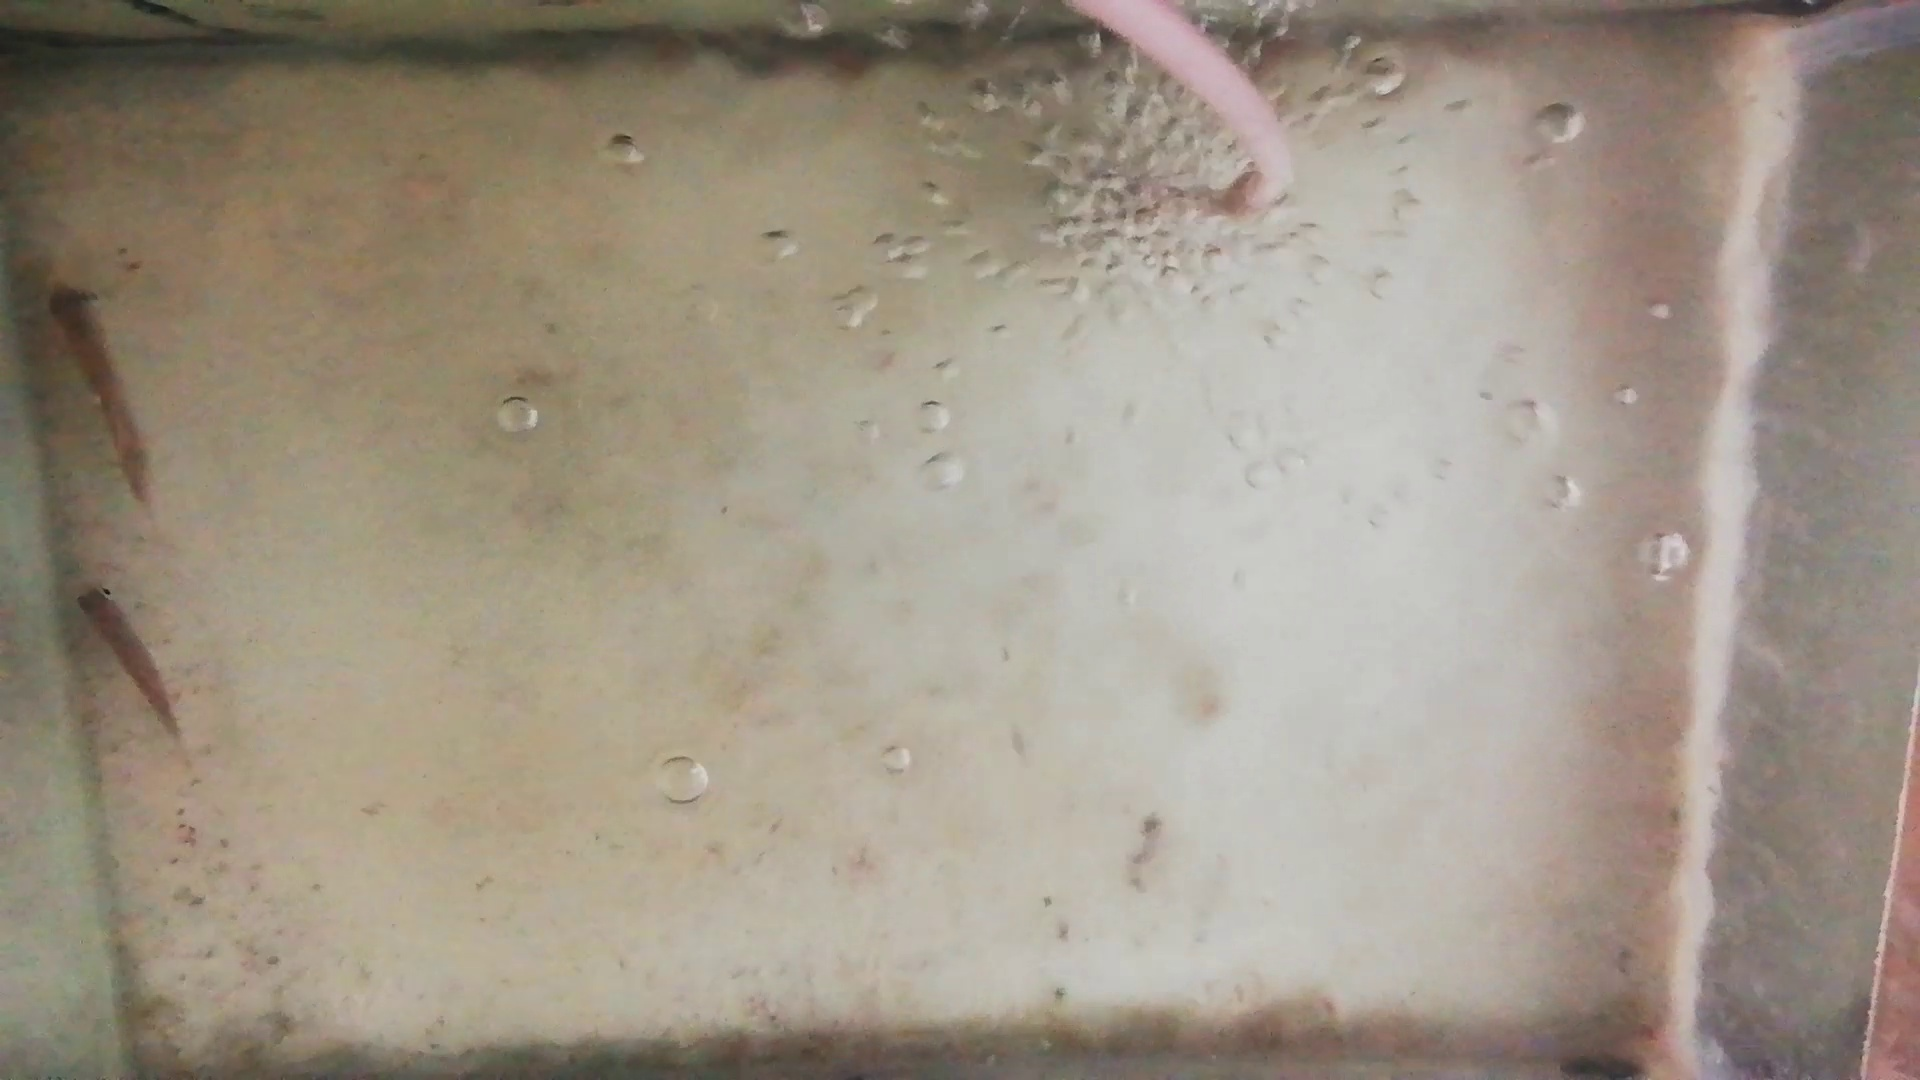fish: (47, 282, 150, 506), (75, 582, 179, 735)
